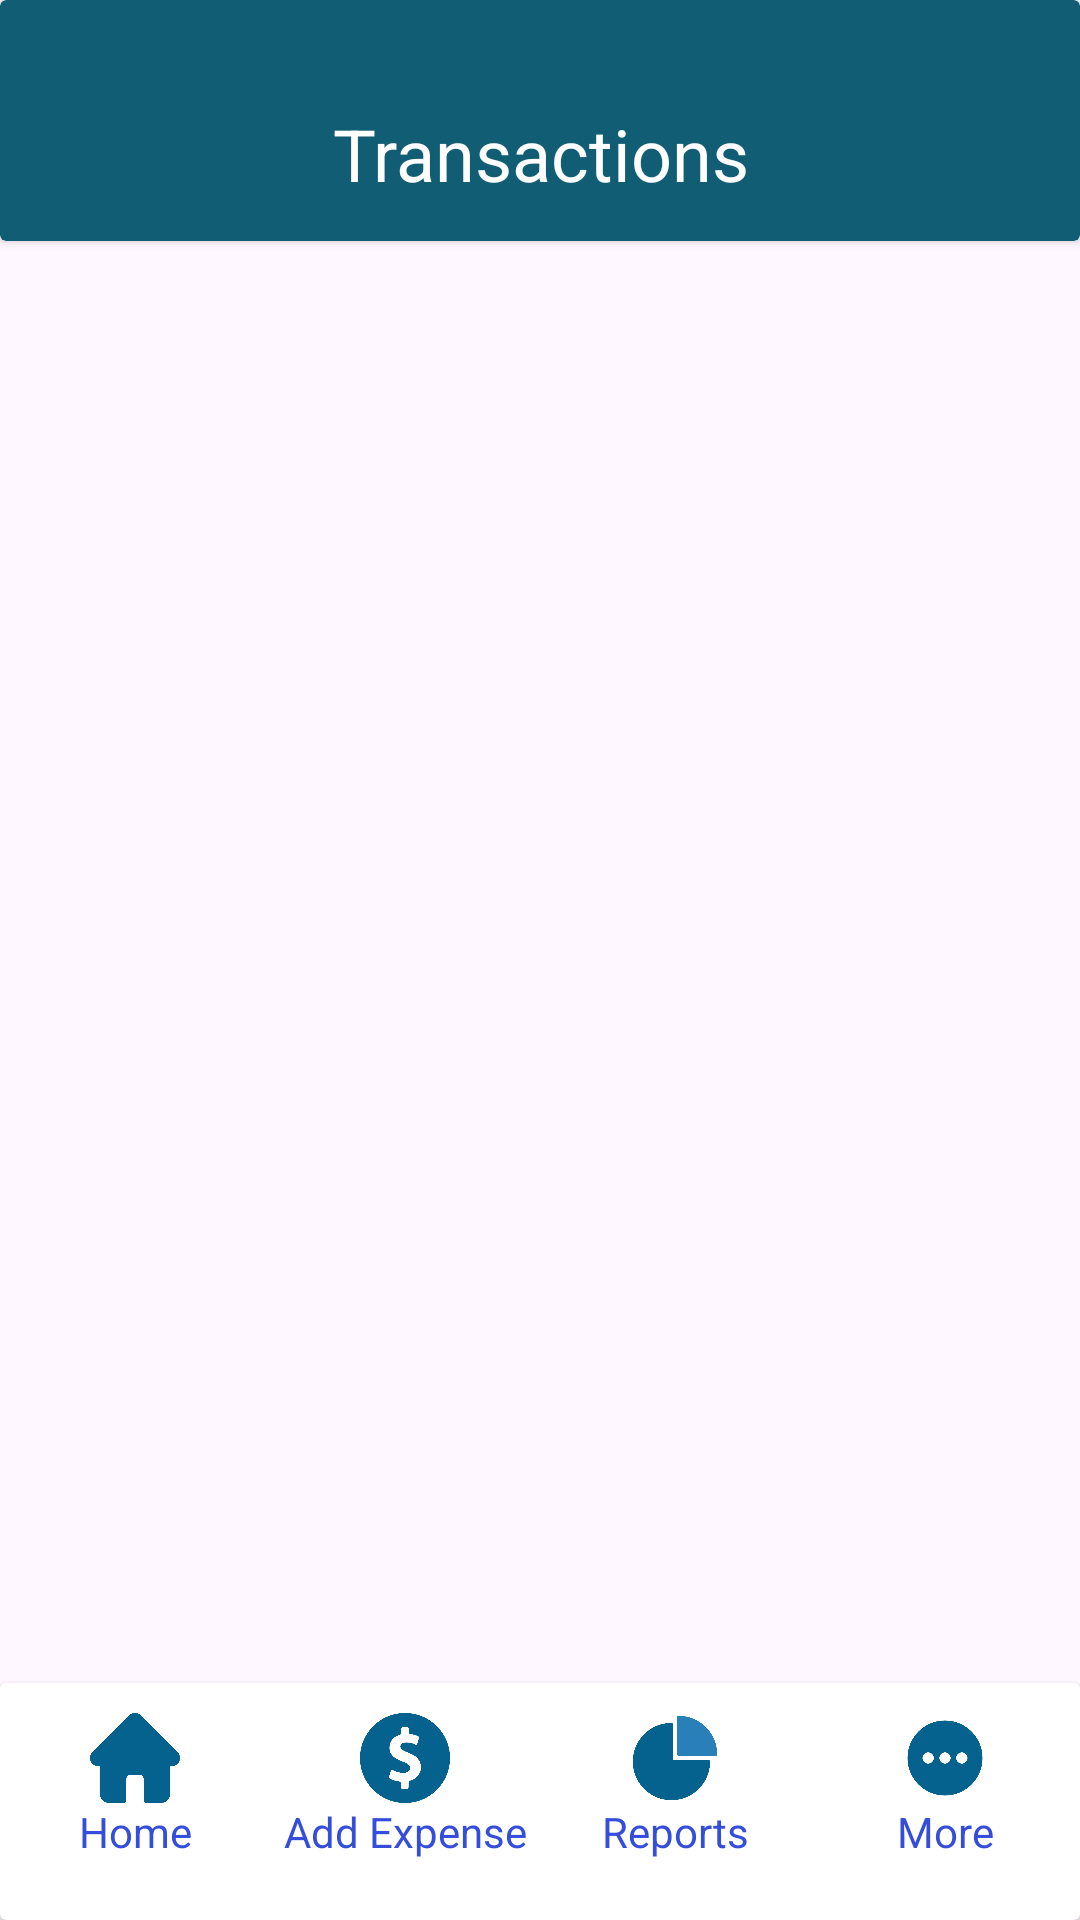

Where icons sit on this 1080px×1920px app screen, as (x1, y1, x2, y2):
coin: (360, 1713, 450, 1803)
piechartanalytics: (633, 1716, 717, 1800)
